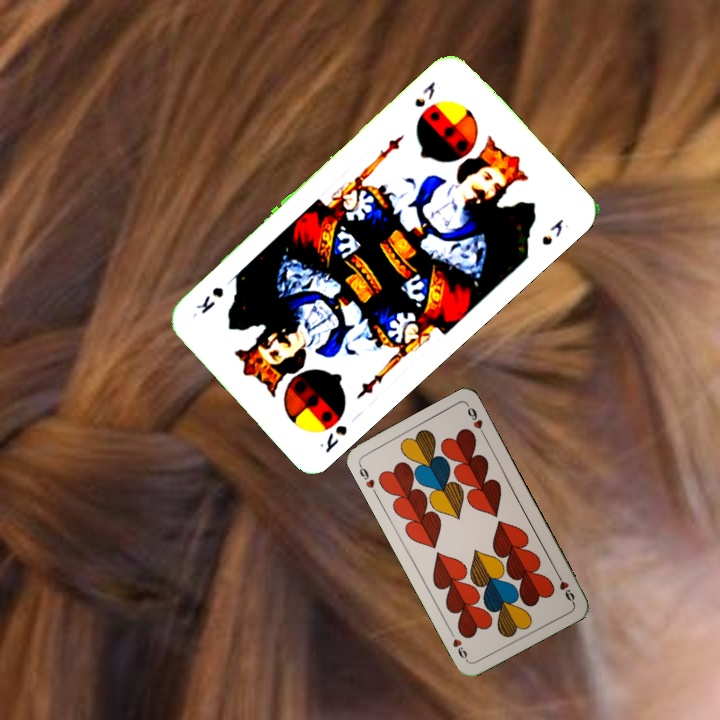H9: (552, 568, 577, 605), (355, 460, 379, 498)
SK: (315, 421, 350, 456), (410, 77, 438, 111)
